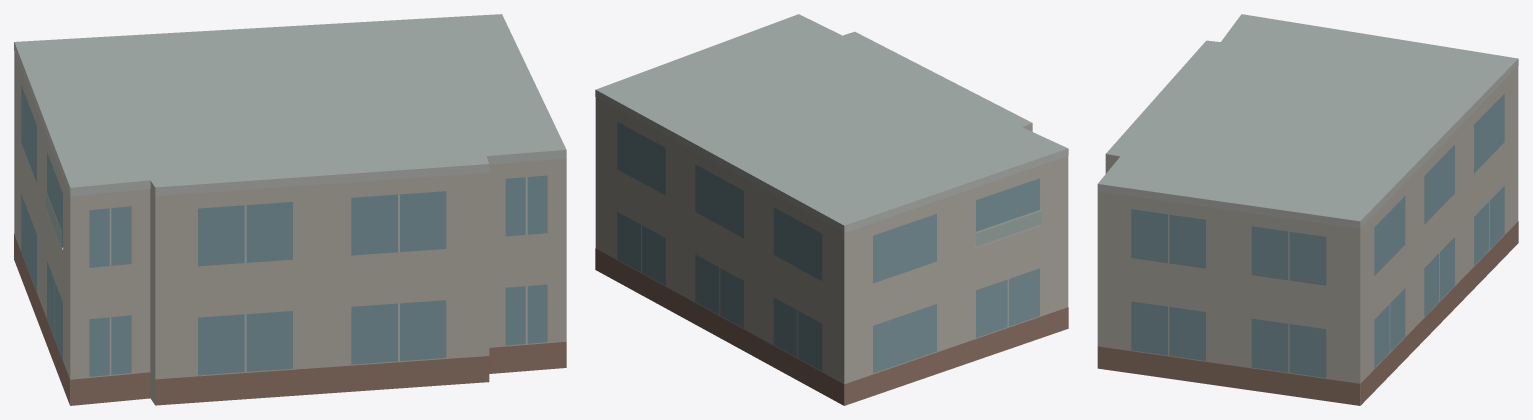
File: survey-upis-32893532.glb
The picture shows the model from 3 angles, left to right: view 1: azimuth 30°, elevation 25°; view 2: azimuth 150°, elevation 25°; view 3: azimuth 270°, elevation 25°; orthographic projection. The views are drawn at different scales.
Visible parts, largest first — view 1: survey-upis-32893532.tmp; view 2: survey-upis-32893532.tmp; view 3: survey-upis-32893532.tmp.
Boxes of the visible parts, box(x1,y1,x2,y2) form: survey-upis-32893532.tmp: box(14, 14, 566, 405); survey-upis-32893532.tmp: box(595, 14, 1068, 405); survey-upis-32893532.tmp: box(1097, 14, 1518, 405).
Size of the model in its own units: 14.71 by 6.1 by 12.62.
